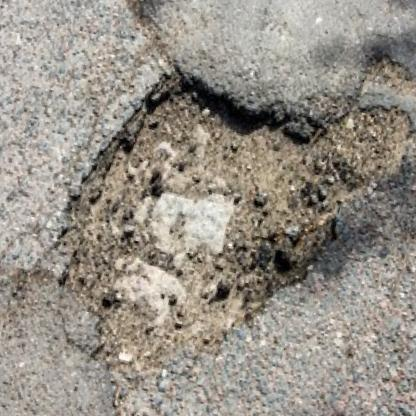pothole: (32, 41, 416, 416)
